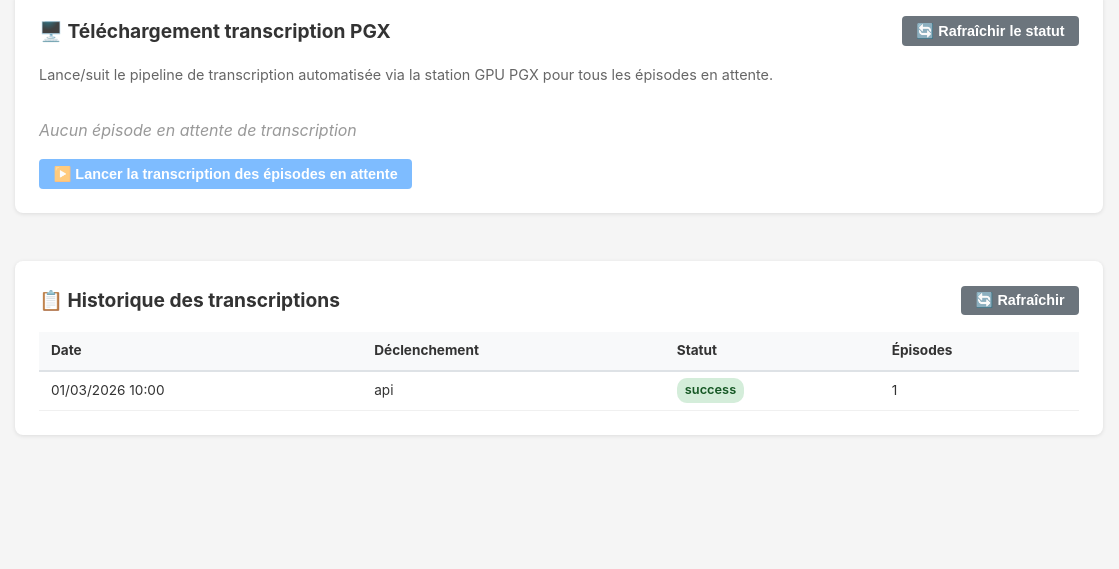
PgxTranscription (Issue #302) › Historique (Issue #309) › affiche un récapitulatif du retry (heure de démarrage + nombre de tentatives) quand la reprise a réussi
Click the row "01/03/2026 10:00 api success 1" at {"x": 559, "y": 390}, box [39,371,1079,410]
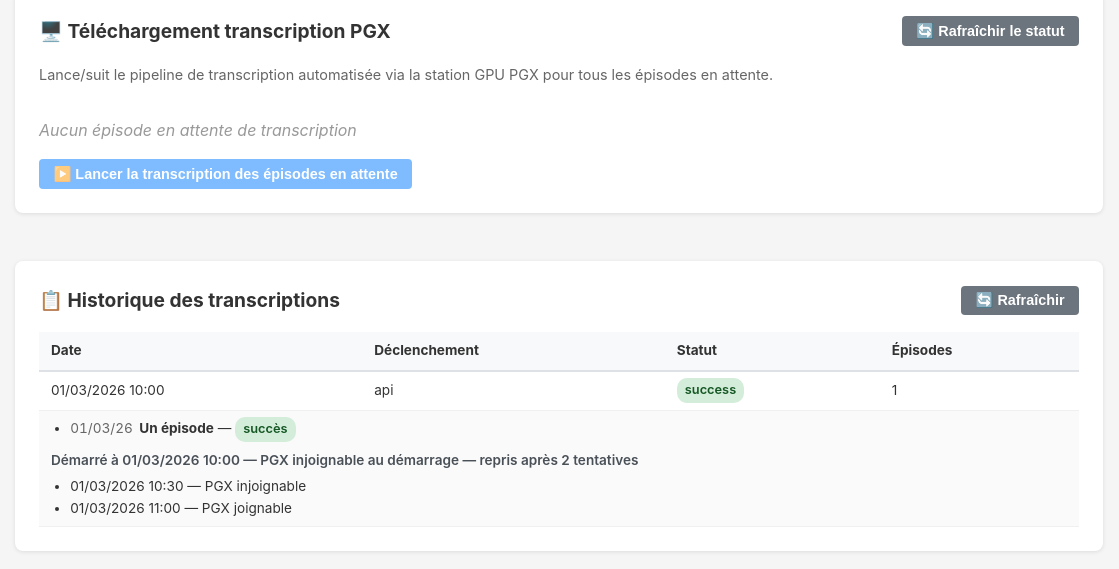
Result: the element with class "log-detail" shows "Démarré à" at [51,452,638,468]
Result: the element with class "log-detail" shows "repris après 2 tentatives" at [51,452,638,468]
